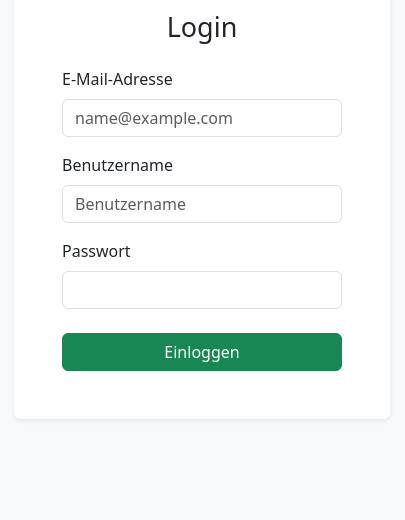
it: LoginPage › submits credentials and stores the returned token
The width and height of the screenshot is (405, 520).
In the field labelled "E-Mail-Adresse": (202, 118) [62,99,342,137], type "user@example.com"
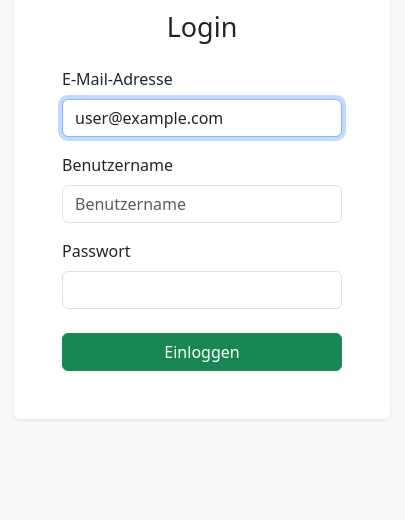
In the field labelled "Benutzername": (202, 204) [62,185,342,223], type "demo"
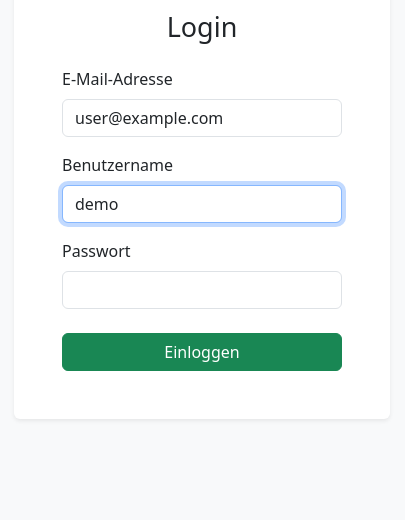
In the password field labelled "Passwort": (202, 290) [62,271,342,309], type "password"
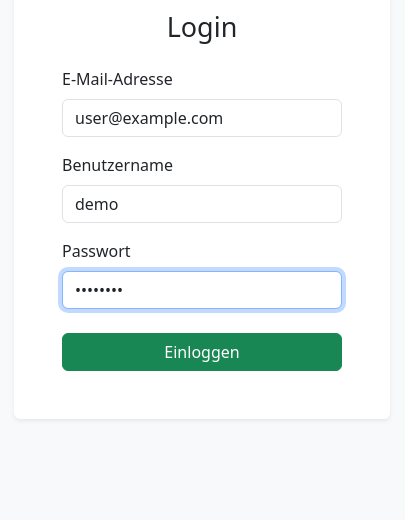
Click the button "Einloggen": (202, 352) [62,333,342,371]
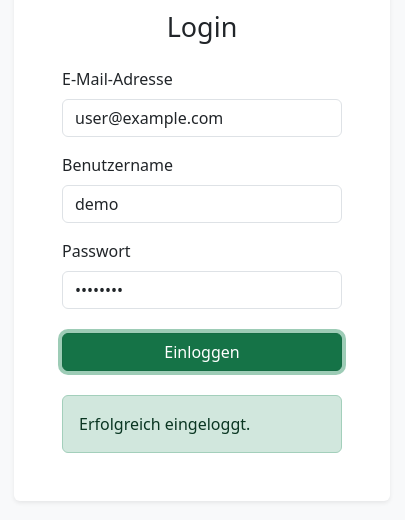
Expected: the message shows "Erfolgreich eingeloggt", [79,413,250,435]
